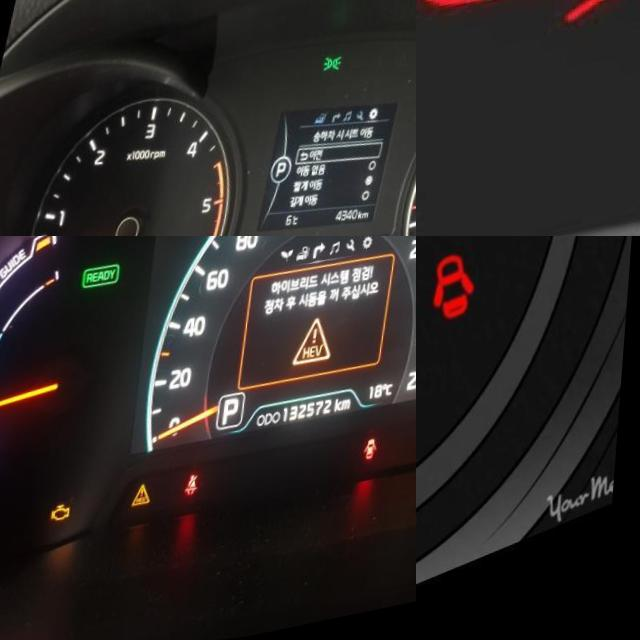Doors: (369, 452, 385, 477)
SideLamp: (324, 67, 345, 89)
